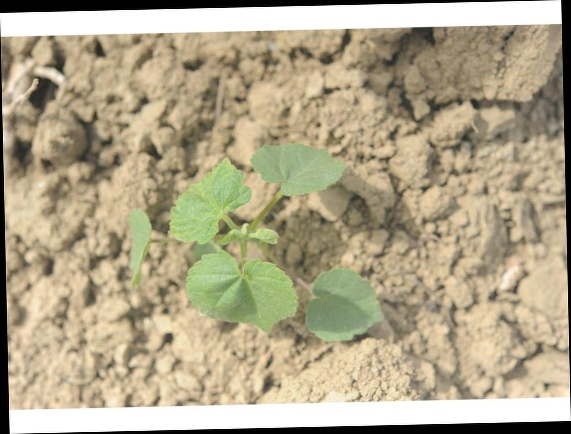velvet: (129, 143, 385, 342)
